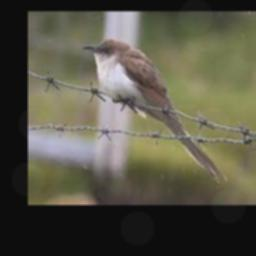Cuckoo: (83, 39, 228, 181)
